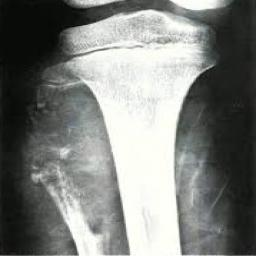cancer: (25, 73, 116, 252)
